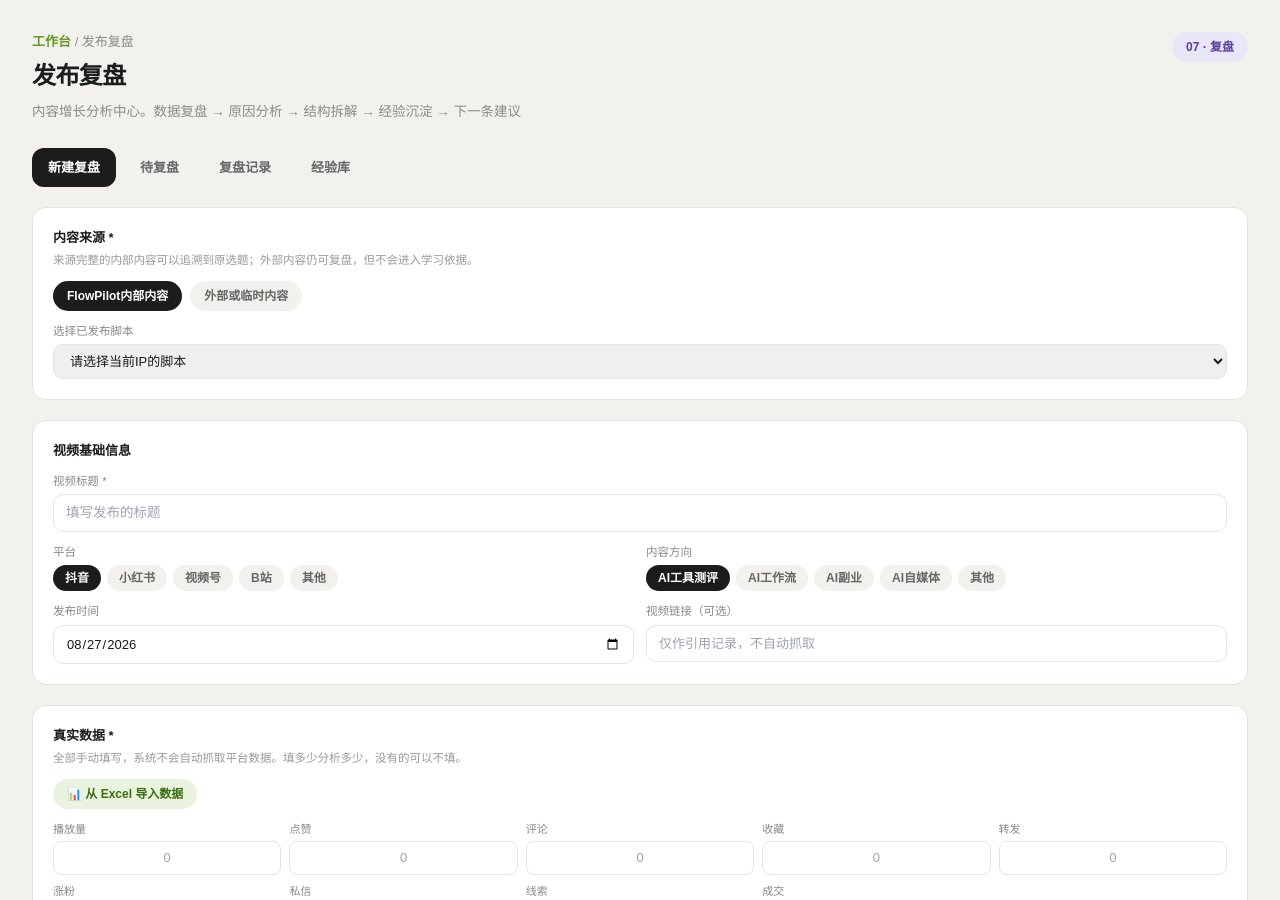
Test case: 删除复盘的知识关联清理失败时页面显示错误且保留记录
Click the button "复盘记录" at (245, 167), box [203,148,287,187]
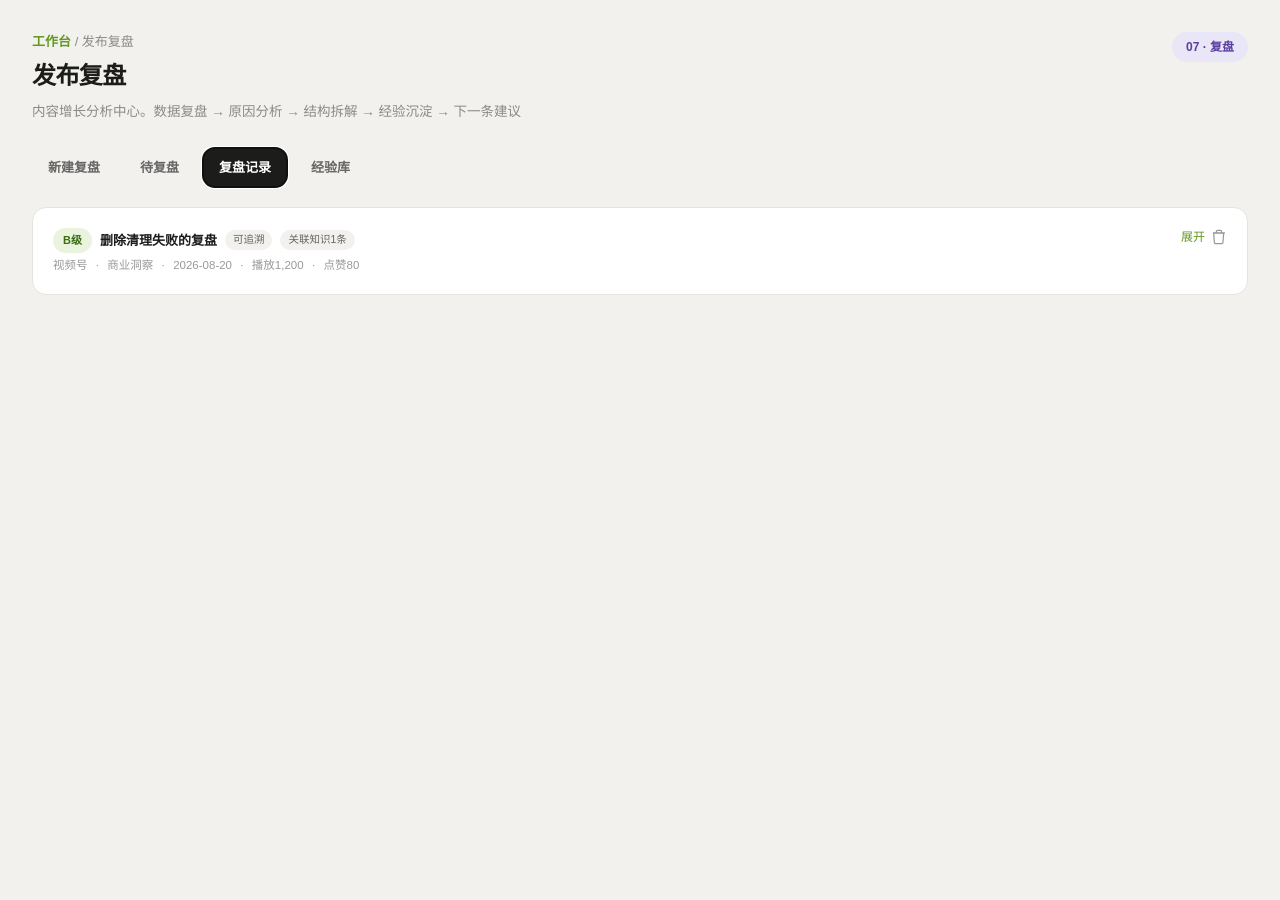
Expected: the text "删除清理失败的复盘" is shown, [100,230,217,250]
Click the button named "删除复盘" at (1219, 237), box [1211,229,1227,245]
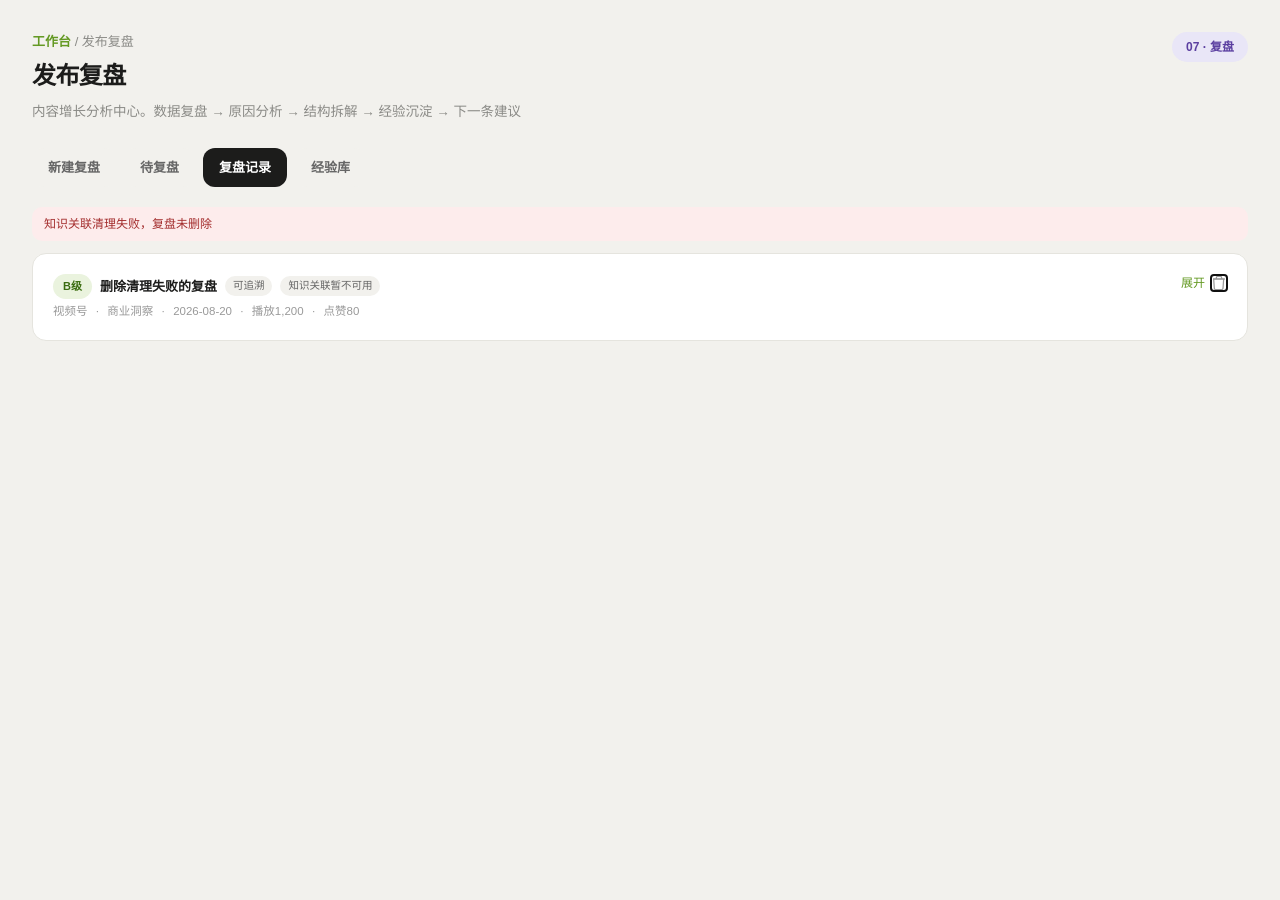
Expected: the text "删除清理失败的复盘" is shown, [100,276,217,296]
Expected: the text "知识关联清理失败，复盘未删除" is shown, [32,207,1248,241]
